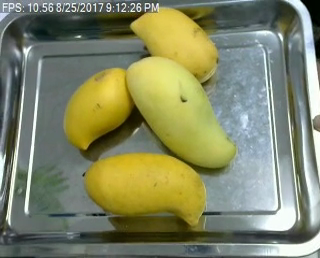Mango: (125, 56, 240, 166), (83, 152, 209, 228), (124, 5, 221, 84), (61, 68, 138, 151)
